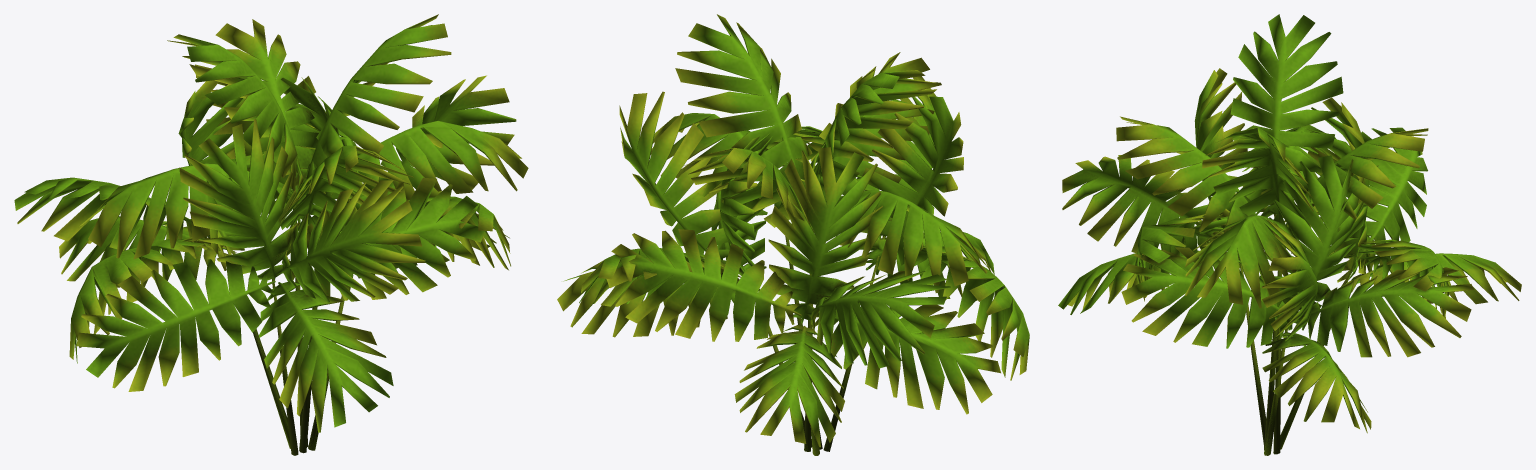
Rendered from Tree-Palm-Ivory-Cane.fbx.
The picture shows the model from 3 angles, left to right: view 1: azimuth 30°, elevation 25°; view 2: azimuth 150°, elevation 25°; view 3: azimuth 270°, elevation 25°; orthographic projection. The views are drawn at different scales.
Visible parts, largest first — view 1: IvoryPalmTree_mesh; view 2: IvoryPalmTree_mesh; view 3: IvoryPalmTree_mesh.
Part boxes in pixels (x1,y1,x2,y2): IvoryPalmTree_mesh: (14, 14, 528, 455); IvoryPalmTree_mesh: (557, 14, 1029, 455); IvoryPalmTree_mesh: (1058, 14, 1521, 455).
Bounding box in the file's own units: 1064 × 964 × 1039.
Materials: 1 (1 with a texture image).
